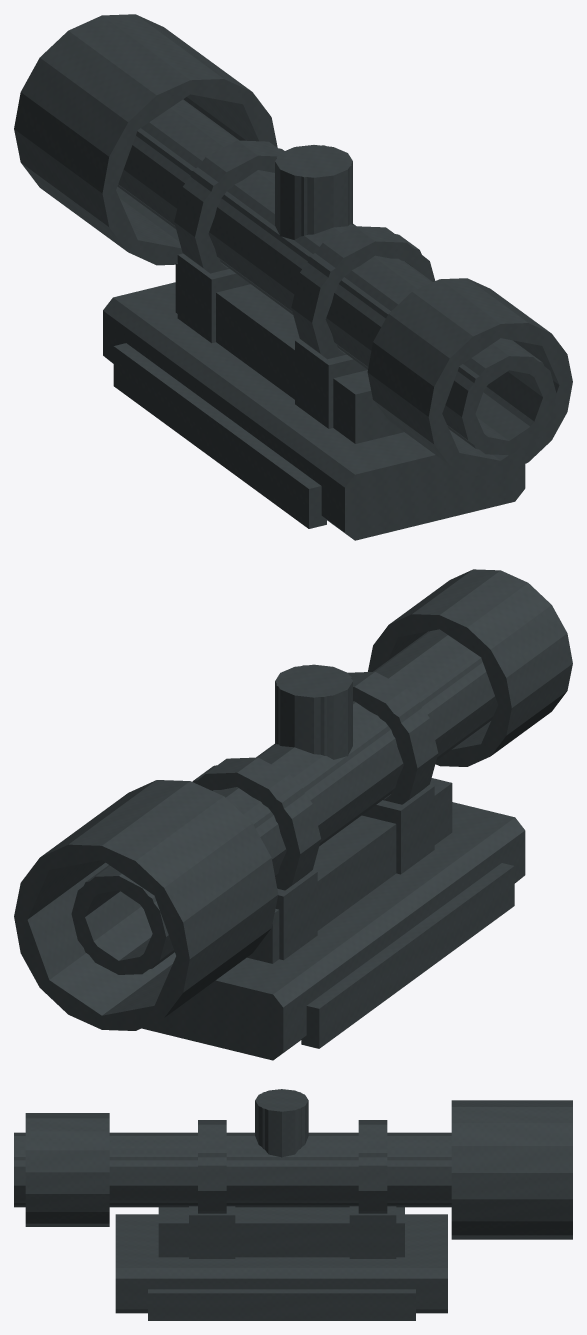
The model's file is scope4.glb.
3 renders of one model, top to bottom at view 1: azimuth 30°, elevation 25°; view 2: azimuth 150°, elevation 25°; view 3: azimuth 270°, elevation 25°, orthographic. The views are drawn at different scales.
Parts seen in each view (by area): view 1: scope4_foot, scope4_foot.001; view 2: scope4_foot, scope4_foot.001; view 3: scope4_foot, scope4_foot.001.
Boxes of the visible parts, x1,y1,x2,y2 form: scope4_foot: (14, 14, 572, 540); scope4_foot.001: (102, 80, 572, 474); scope4_foot: (14, 569, 572, 1060); scope4_foot.001: (14, 615, 510, 1029); scope4_foot: (14, 1089, 572, 1320); scope4_foot.001: (14, 1089, 451, 1205).
Bounding box in the file's own units: 0.0912 × 0.115 × 0.313.
1 material, 1 textured.
